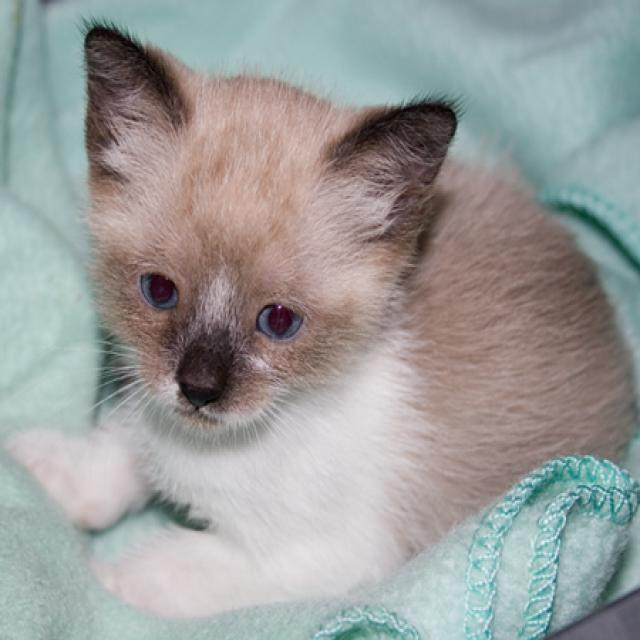Cats: (4, 14, 639, 621)
